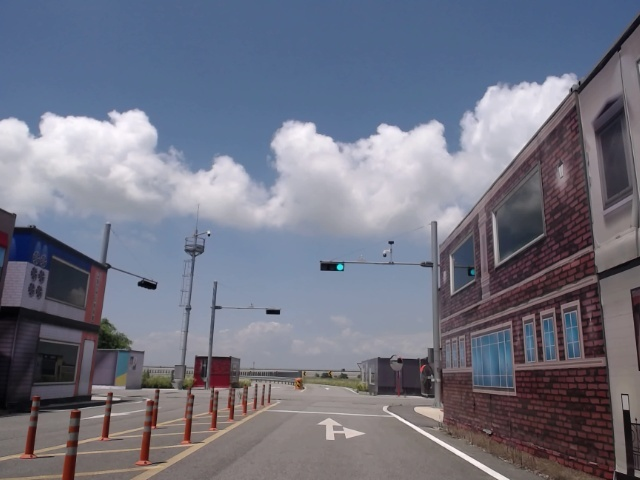green_3: (321, 263, 345, 271)
